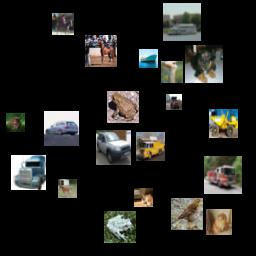automobile: (44, 111, 79, 146), (96, 130, 131, 165)
bird: (171, 198, 203, 230), (161, 61, 183, 83)
cat: (134, 188, 153, 207)
dog: (185, 45, 223, 83), (206, 209, 232, 235)
frog: (107, 91, 139, 123), (104, 211, 136, 243), (6, 113, 25, 132)
ship: (163, 3, 201, 41), (139, 49, 158, 68)
truck: (204, 156, 242, 194), (11, 155, 46, 190), (136, 132, 165, 161), (209, 109, 238, 138), (166, 94, 182, 110)
